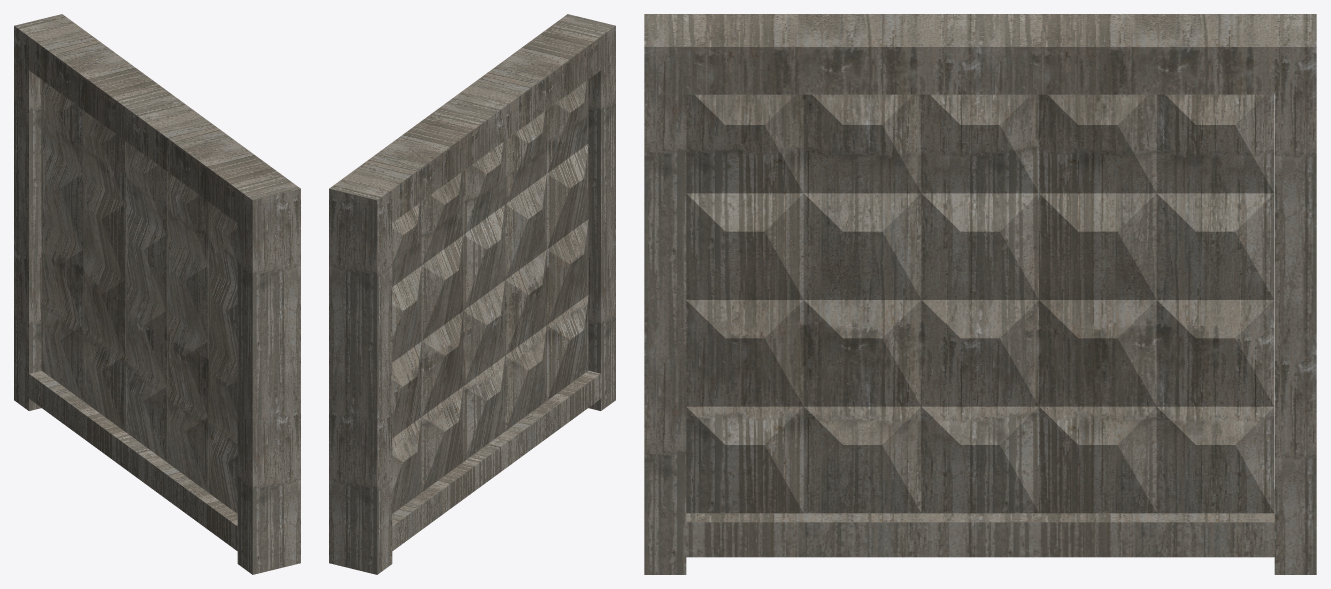
The model's file is Fence.fbx.
The picture shows the model from 3 angles, left to right: view 1: azimuth 30°, elevation 25°; view 2: azimuth 150°, elevation 25°; view 3: azimuth 270°, elevation 25°; orthographic projection. The views are drawn at different scales.
Visible parts, largest first — view 1: Fence; view 2: Fence; view 3: Fence.
Part boxes in pixels (x1,y1,x2,y2): Fence: [14, 14, 300, 574]; Fence: [329, 14, 615, 574]; Fence: [644, 14, 1316, 574].
Size of the model in its own units: 40 by 297 by 343.
1 material, 1 textured.
